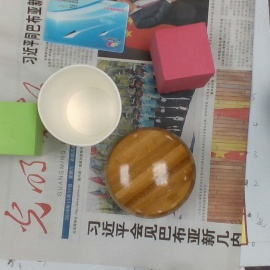card: (42, 1, 129, 53)
chess: (106, 127, 196, 221)
cup: (38, 63, 121, 147)
